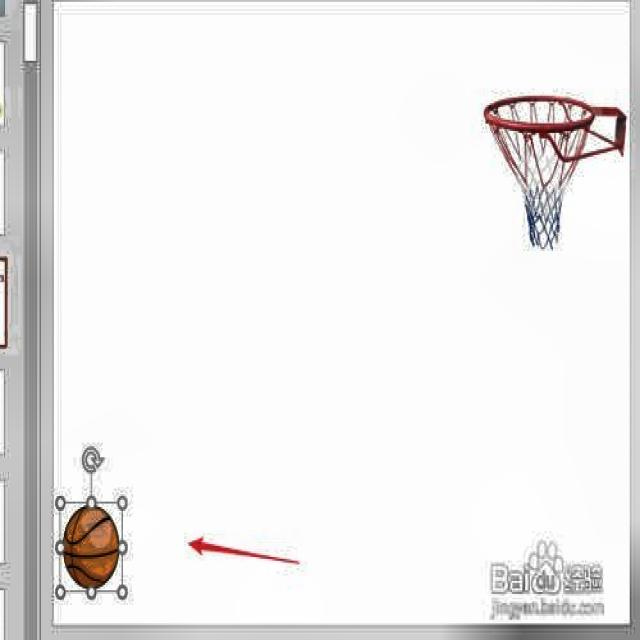board: (64, 506, 120, 588)
rim: (484, 99, 596, 248)
